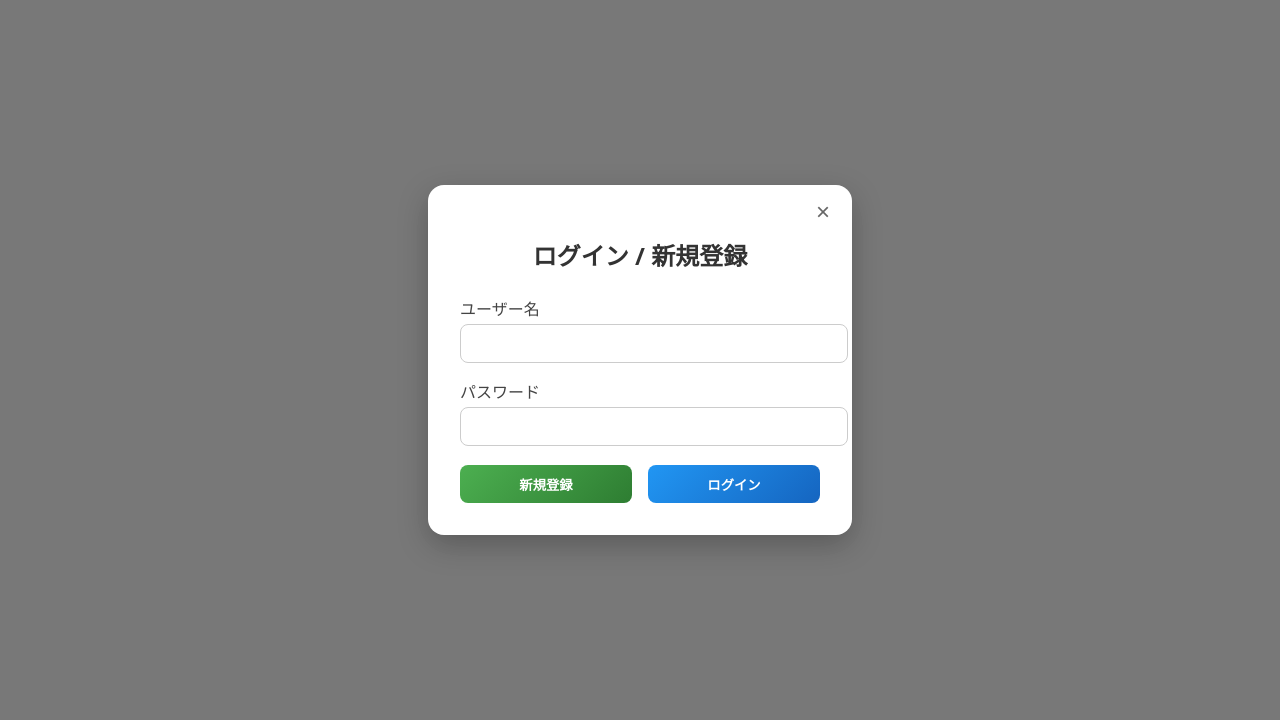
Test case: LoginRegisterModal › shows error when fields are empty on register
Step 1. Click the button "新規登録" → (546, 484), box [460,465,632,503]
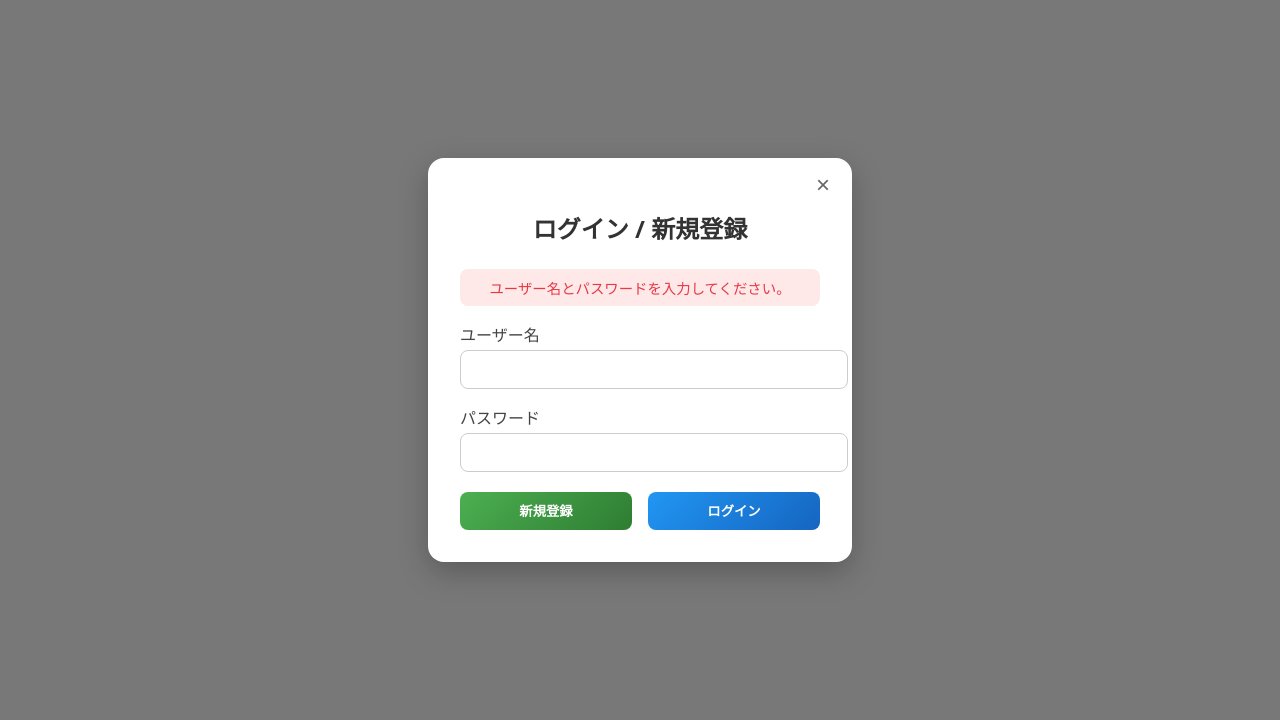
Expected: the text "ユーザー名とパスワードを入力してください。" is shown, [460,269,820,306]
